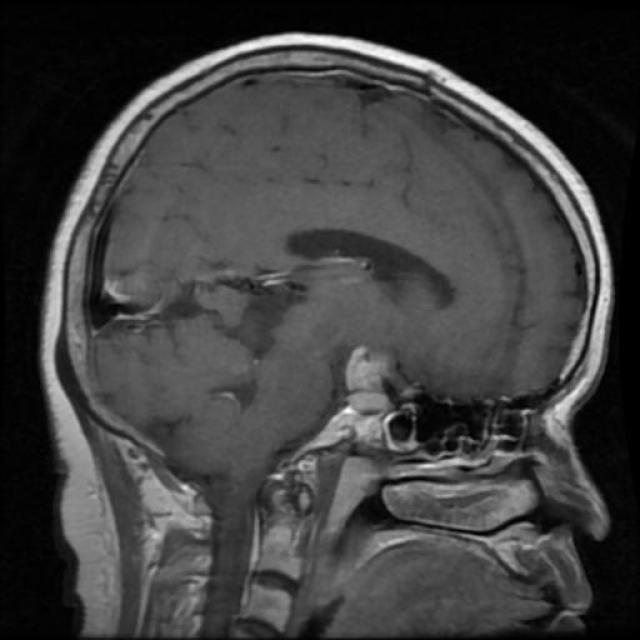pituitary: (286, 336, 422, 464)
